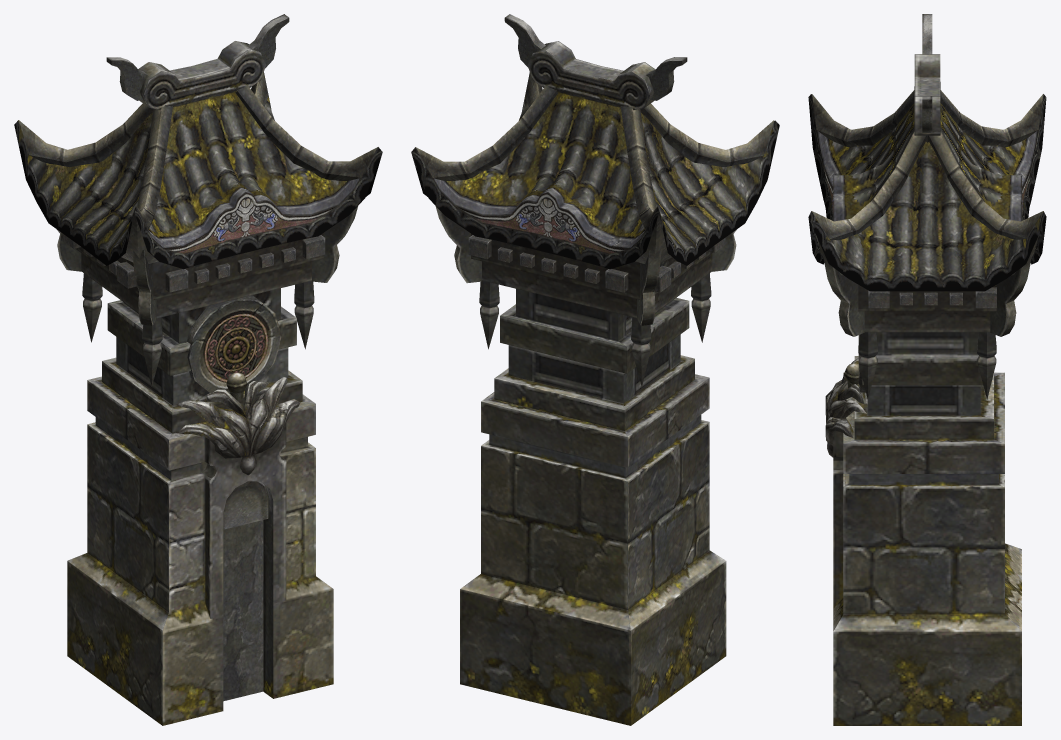
The model's file is 4009_Item_jianzhu_2.FBX.
The picture shows the model from 3 angles, left to right: view 1: azimuth 30°, elevation 25°; view 2: azimuth 150°, elevation 25°; view 3: azimuth 270°, elevation 25°; orthographic projection.
Parts seen in each view (by area): view 1: 4009_Item_jianzhu_2; view 2: 4009_Item_jianzhu_2; view 3: 4009_Item_jianzhu_2.
Part boxes in pixels (left/top/right/bottom): 4009_Item_jianzhu_2: left=14, top=14, right=382, bottom=725; 4009_Item_jianzhu_2: left=411, top=14, right=779, bottom=725; 4009_Item_jianzhu_2: left=808, top=14, right=1046, bottom=725.
Size of the model in its own units: 265 by 646 by 222.
